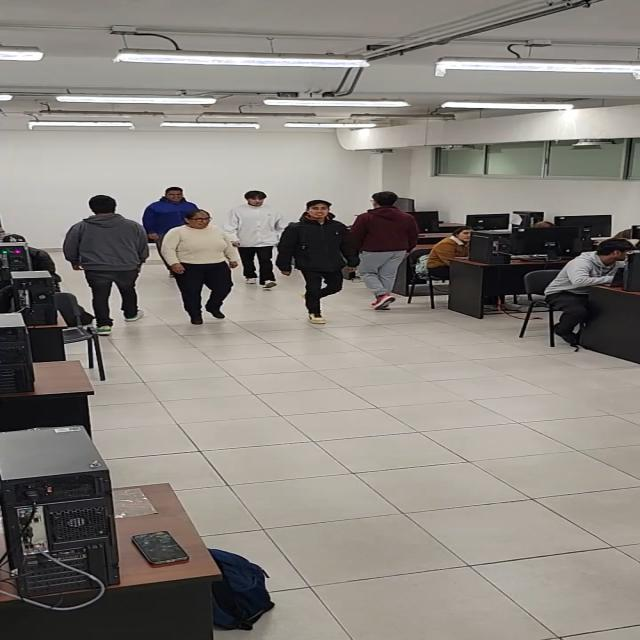Persona: (72, 197, 158, 328), (163, 210, 241, 322), (288, 200, 356, 322), (354, 190, 416, 311), (231, 188, 283, 291), (148, 183, 197, 230)
